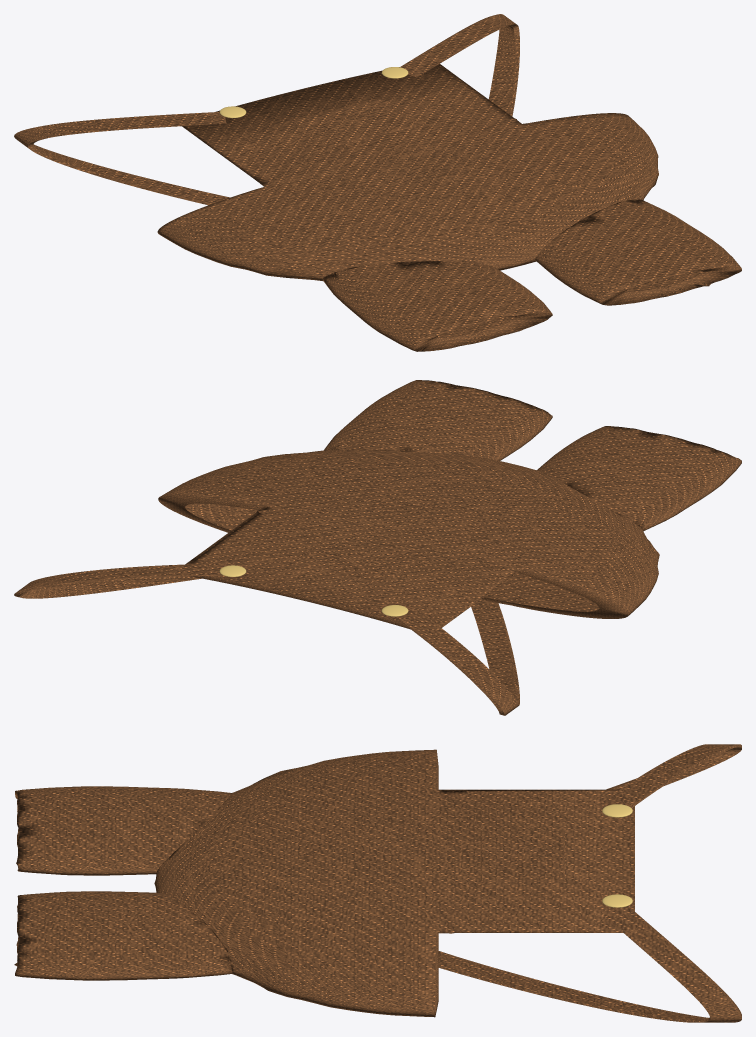
Rendered from overalls3.fbx.
The picture shows the model from 3 angles, top to bottom: view 1: azimuth 30°, elevation 25°; view 2: azimuth 150°, elevation 25°; view 3: azimuth 270°, elevation 25°; orthographic projection. The views are drawn at different scales.
Parts seen in each view (by area): view 1: overalls3; view 2: overalls3; view 3: overalls3.
Part boxes in pixels (x1,y1,x2,y2): overalls3: (14, 14, 741, 351); overalls3: (14, 380, 741, 715); overalls3: (14, 744, 741, 1022).
Size of the model in its own units: 0.9205 by 0.087 by 1.04.
Materials: 2 (1 with a texture image).
